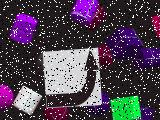Left: (43, 48, 102, 108)
